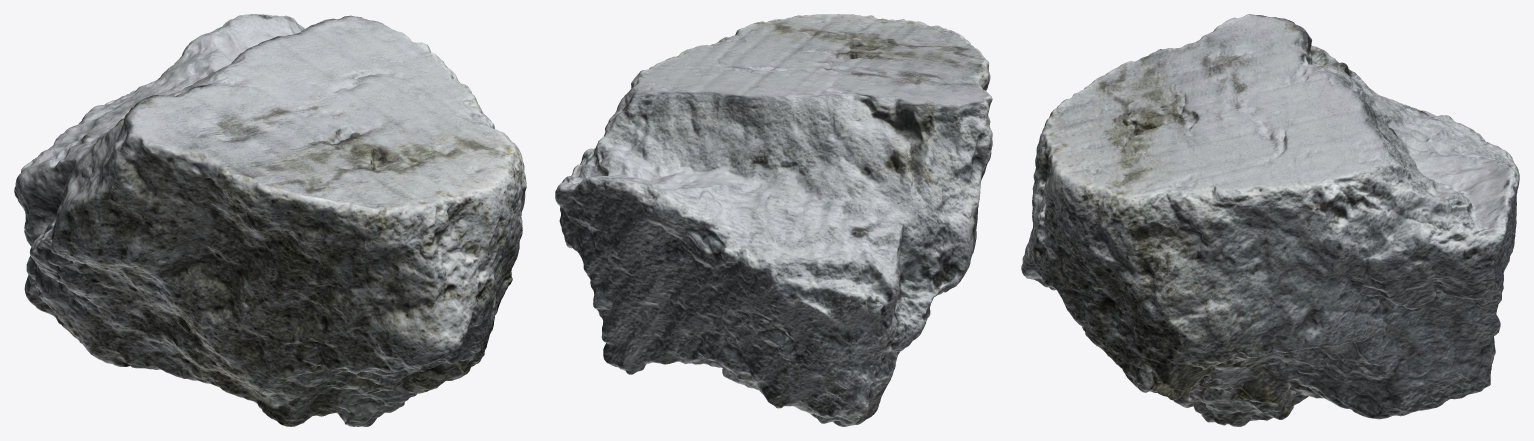
Rendered from rock-60025.glb.
3 renders of one model, left to right at view 1: azimuth 30°, elevation 25°; view 2: azimuth 150°, elevation 25°; view 3: azimuth 270°, elevation 25°, orthographic. The views are drawn at different scales.
Bounding box in the file's own units: 0.0527 × 0.0452 × 0.0645.
1 material, 1 textured.
